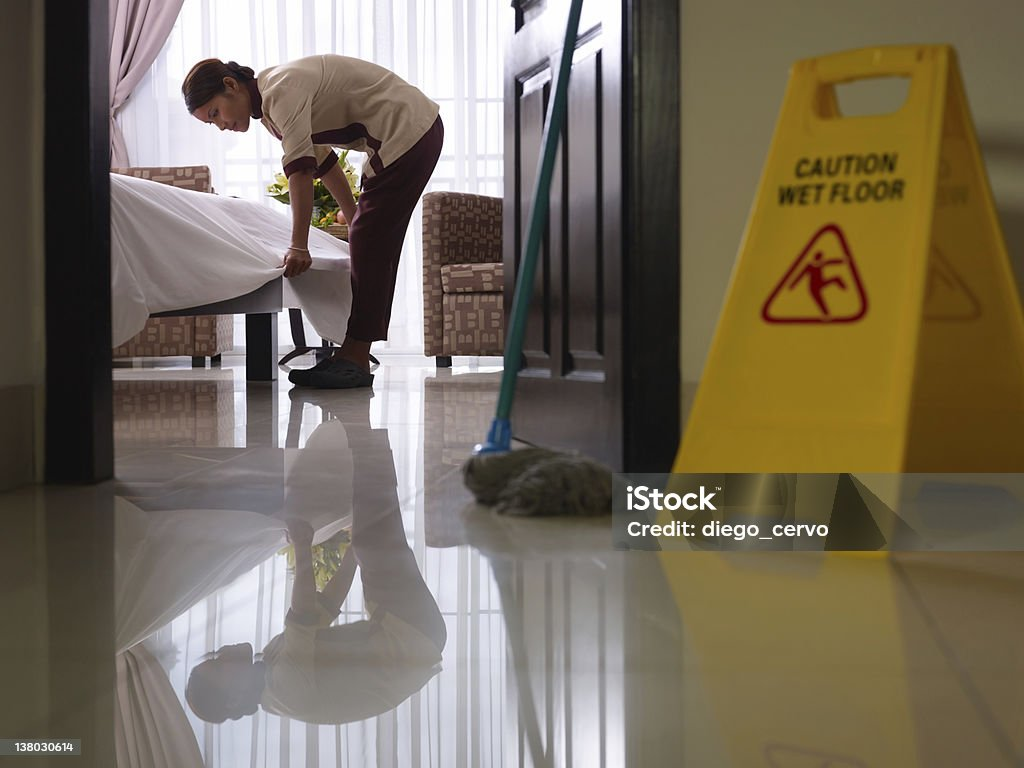wet caution sign: (705, 47, 1024, 572)
